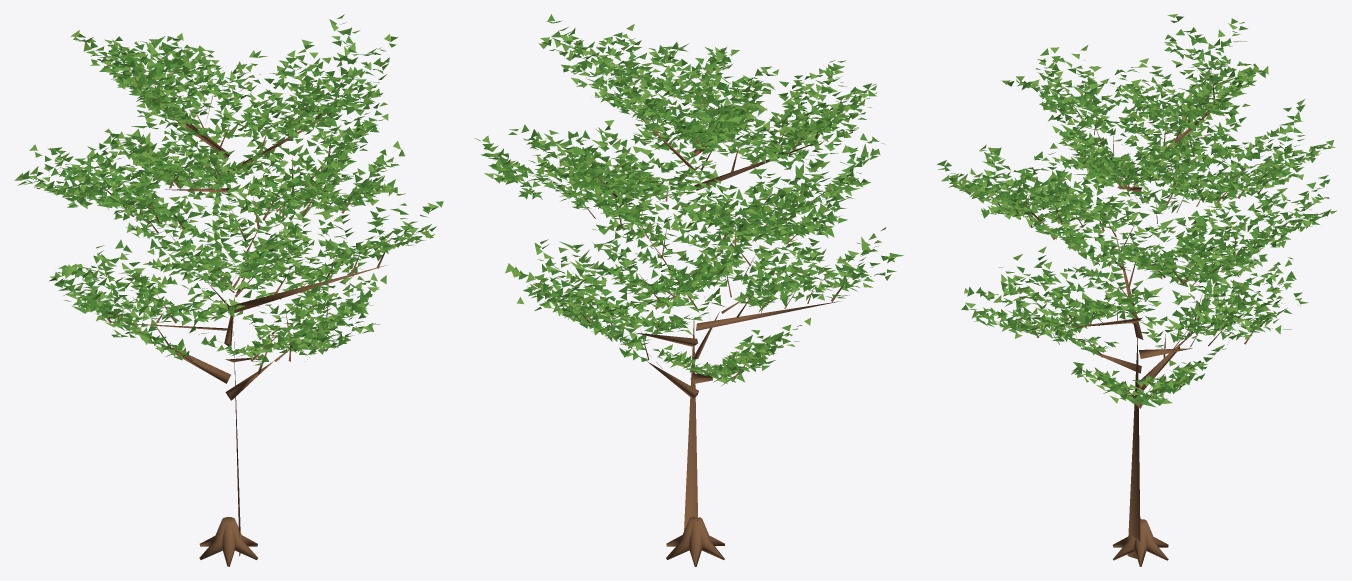
The model's file is maple_far.glb.
The picture shows the model from 3 angles, left to right: view 1: azimuth 30°, elevation 25°; view 2: azimuth 150°, elevation 25°; view 3: azimuth 270°, elevation 25°; orthographic projection. The views are drawn at different scales.
Visible parts, largest first — view 1: Foliage 2, Foliage 1, Foliage 0, Scaffold branch.005; view 2: Foliage 2, Foliage 1, Foliage 0, Trunk, Scaffold branch.004; view 3: Foliage 2, Foliage 1, Foliage 0, Trunk.
Boxes of the visible parts, x1=… form: Foliage 2: x1=14, y1=14, x2=438, y2=365; Foliage 1: x1=17, y1=19, x2=443, y2=362; Foliage 0: x1=21, y1=22, x2=438, y2=361; Scaffold branch.005: x1=227, y1=265, x2=386, y2=314; Foliage 2: x1=482, y1=21, x2=894, y2=385; Foliage 1: x1=474, y1=14, x2=903, y2=382; Foliage 0: x1=481, y1=20, x2=895, y2=378; Trunk: x1=684, y1=320, x2=697, y2=530; Scaffold branch.004: x1=696, y1=301, x2=839, y2=330; Foliage 2: x1=938, y1=14, x2=1336, y2=403; Foliage 1: x1=945, y1=18, x2=1334, y2=407; Foliage 0: x1=937, y1=16, x2=1330, y2=405; Trunk: x1=1127, y1=331, x2=1140, y2=558.
Size of the model in its own units: 7.06 by 9.47 by 7.02.
